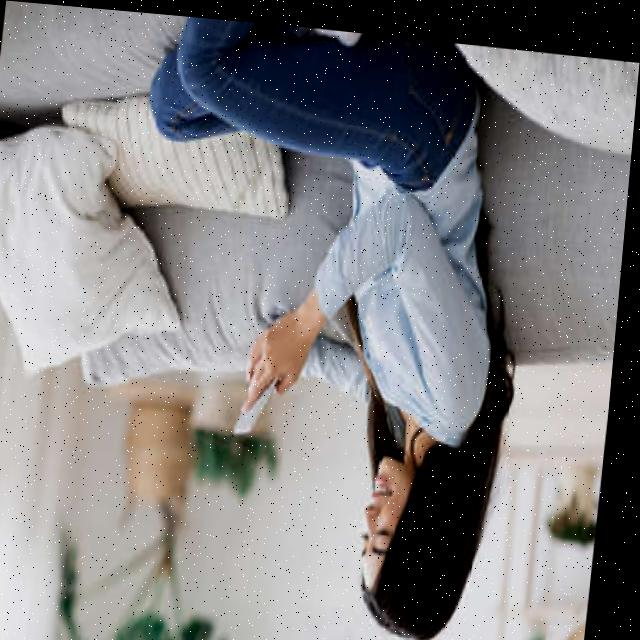smartphone-person: (94, 10, 565, 640)
